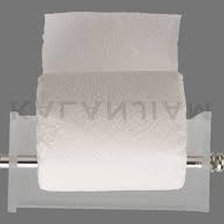tissue: (29, 8, 191, 195)
